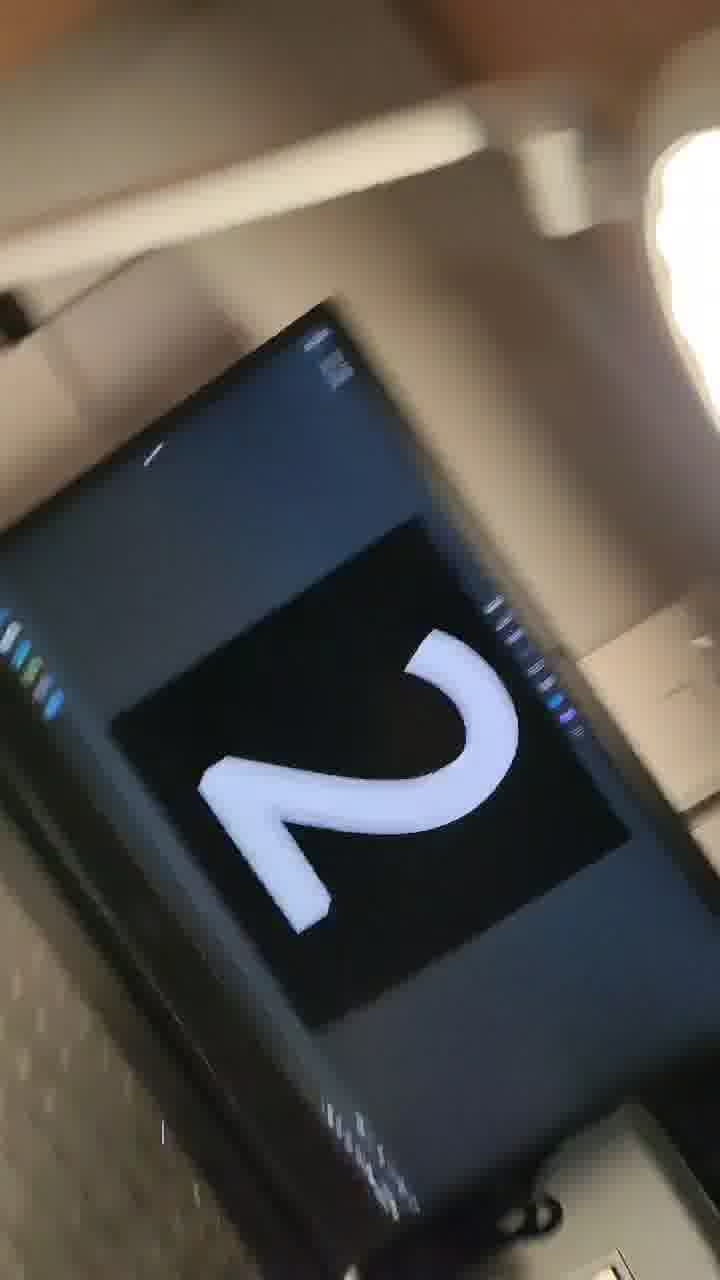two: (186, 518, 512, 981)
